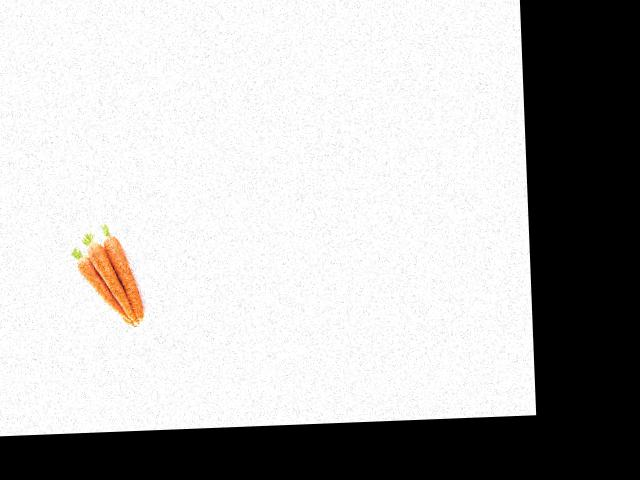carrot: (100, 237, 143, 319)
